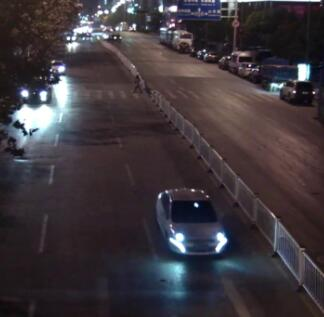bus: (167, 28, 194, 53), (157, 24, 172, 45), (203, 48, 217, 62)
car: (155, 189, 230, 257), (258, 54, 300, 89), (16, 76, 52, 105), (278, 79, 316, 105), (229, 50, 260, 73), (237, 61, 257, 78), (48, 58, 66, 75), (218, 54, 231, 69), (64, 32, 76, 43), (111, 31, 123, 42), (196, 48, 205, 60)
